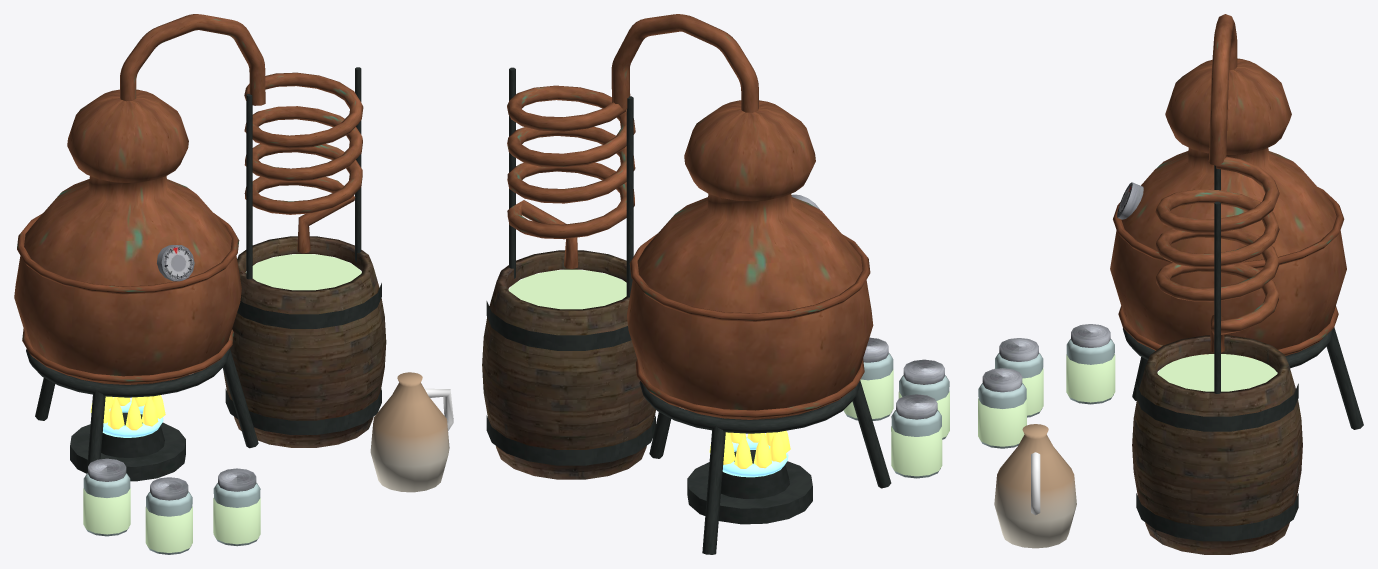
Rendered from prop_still.glb.
3 views of the same model, side by side, from view 1: azimuth 30°, elevation 25°; view 2: azimuth 150°, elevation 25°; view 3: azimuth 270°, elevation 25° (orthographic). The views are drawn at different scales.
Visible parts, largest first — view 1: prop; view 2: prop; view 3: prop.
Boxes of the visible parts, bbox=[...] form: prop: bbox=[14, 14, 453, 554]; prop: bbox=[482, 14, 949, 554]; prop: bbox=[978, 14, 1363, 554].
Size of the model in its own units: 0.7571 by 0.8925 by 0.7001.
Materials: 10 (5 with a texture image).
